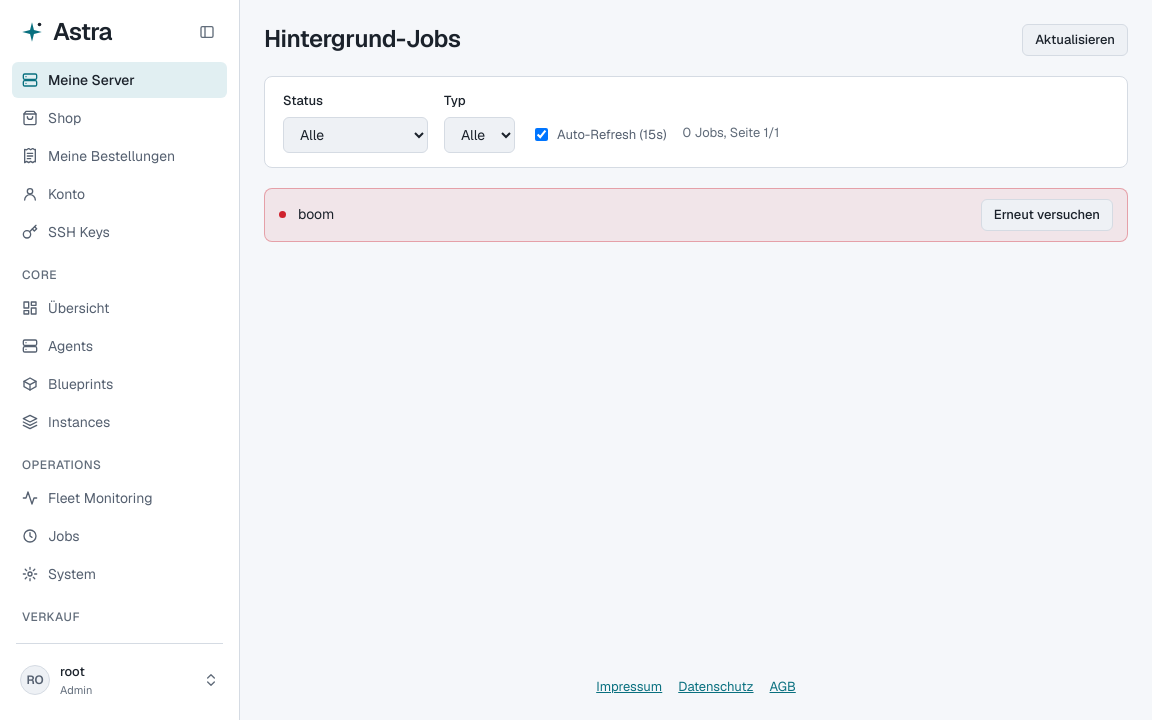
AdminJobsPage › zeigt Fehler und lädt erneut
Expected: the message shows "boom", [298,205,334,223]
Click the button "Erneut versuchen" at (1047, 214), box [981,198,1113,230]
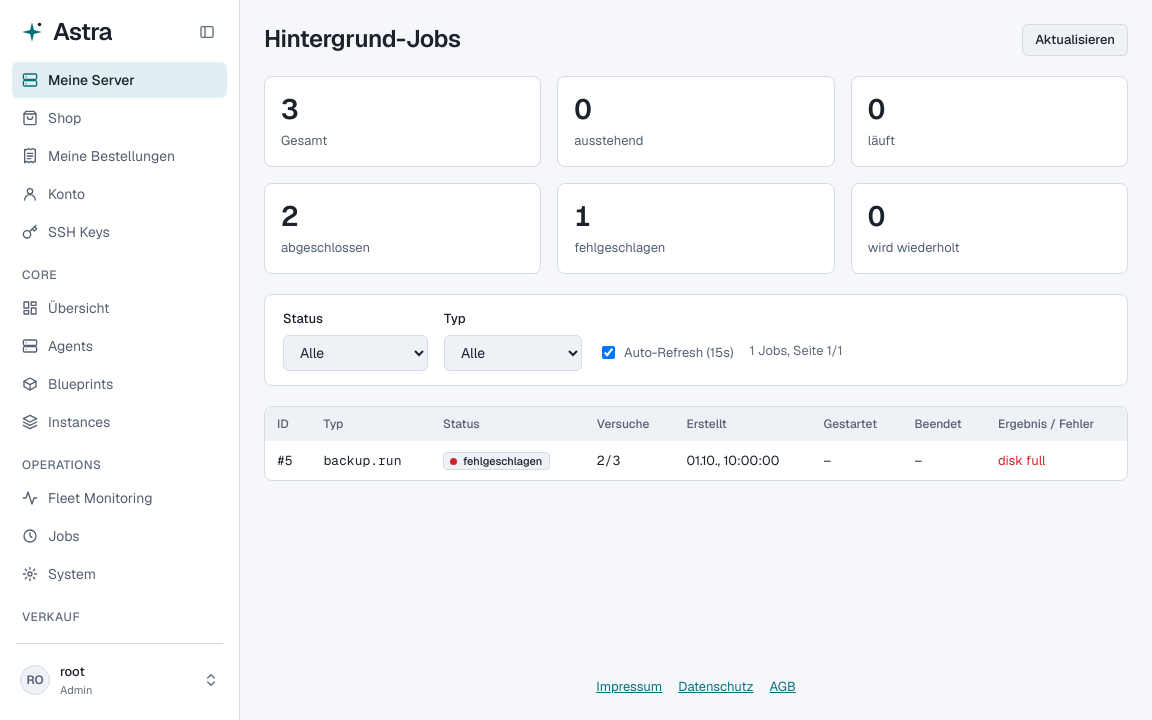
Expected: the text "disk full" is shown, [998,452,1046,469]
